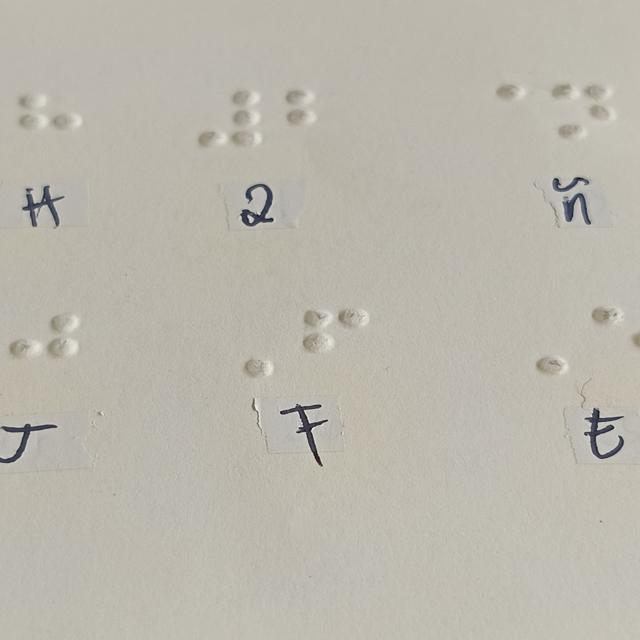2: (287, 89, 348, 149)
F: (304, 307, 371, 380)
capital: (209, 306, 276, 379)
dot_4: (466, 84, 529, 139)
enye: (554, 83, 616, 138)
h: (21, 93, 85, 158)
j: (10, 315, 77, 387)
number: (202, 89, 263, 149)
